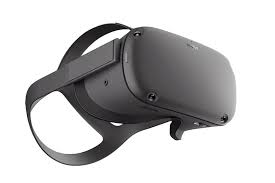oculus: (74, 26, 239, 144)
